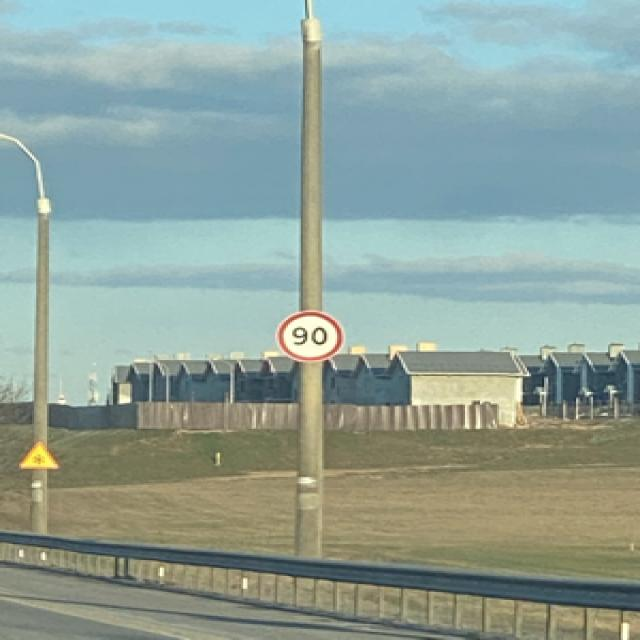speedlimit: (276, 310, 342, 360)
